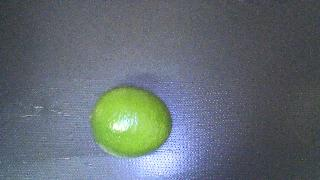EXPORTACION: (90, 87, 172, 158)
